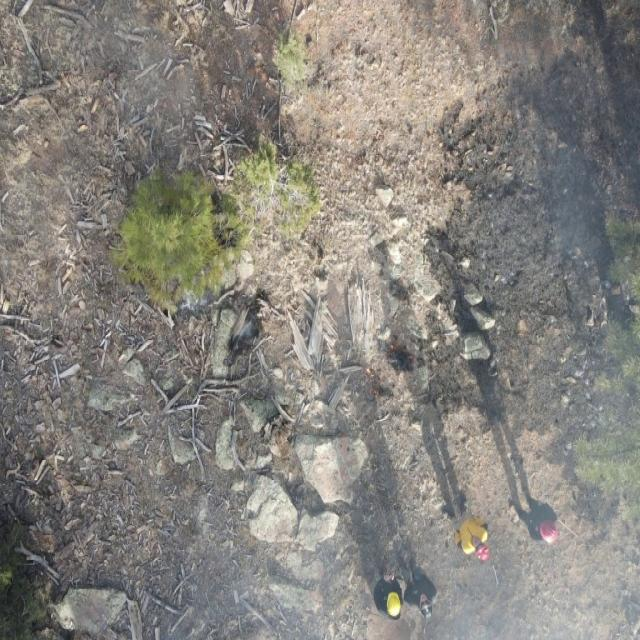fire: (388, 338, 418, 362), (362, 362, 379, 398)
smoke: (437, 439, 639, 640), (185, 502, 437, 640), (513, 84, 640, 295), (127, 37, 192, 124)
